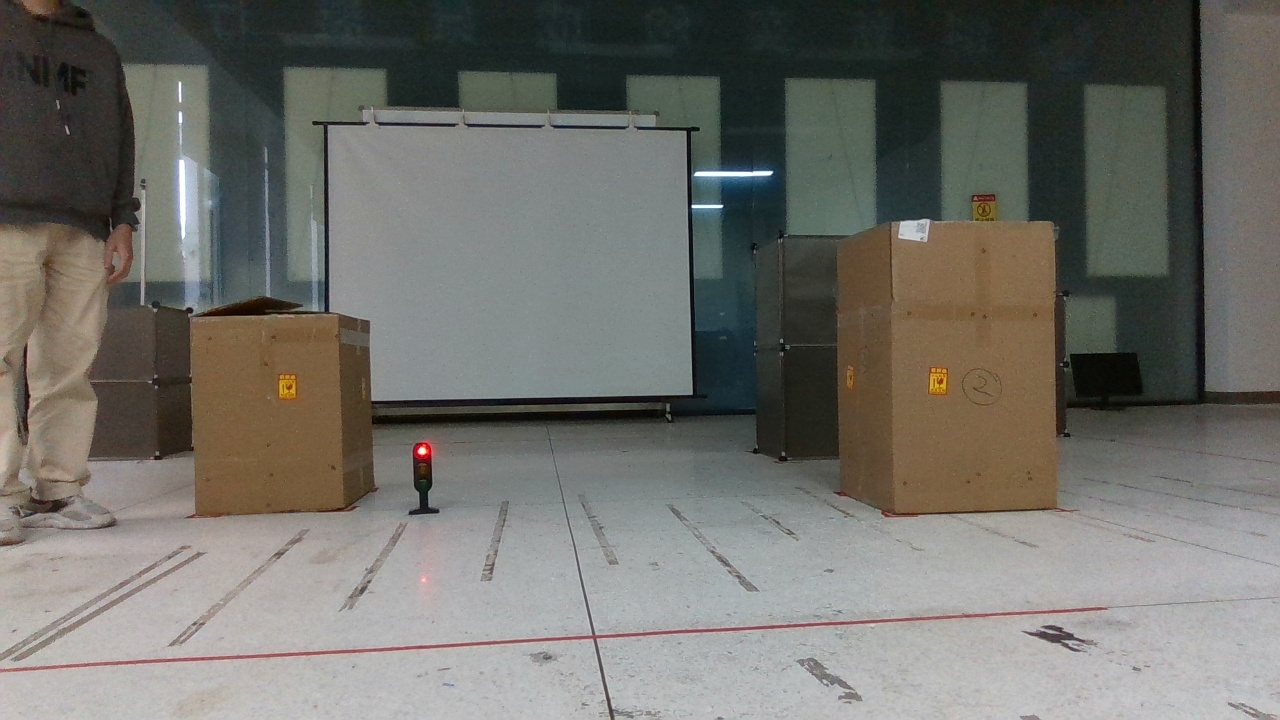red_light: (401, 432, 448, 519)
